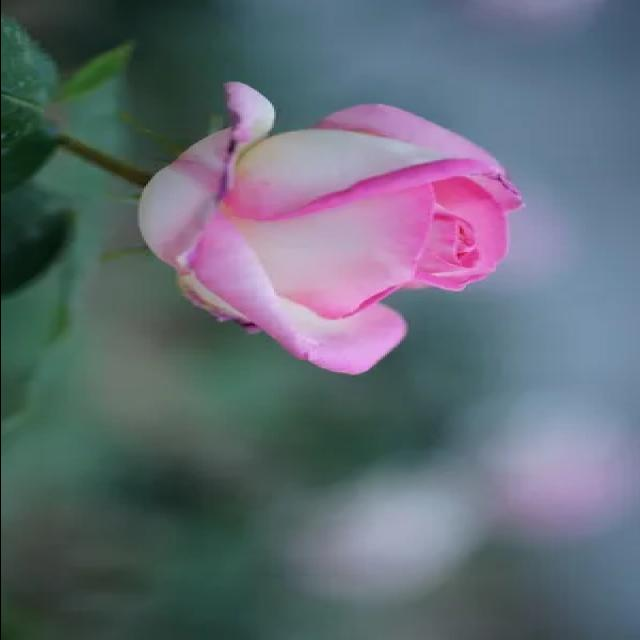rose: (112, 73, 551, 380)
